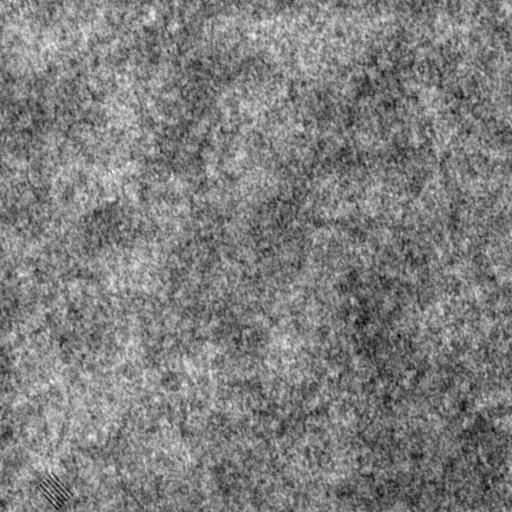DefectTypeB: (36, 473, 72, 510)
